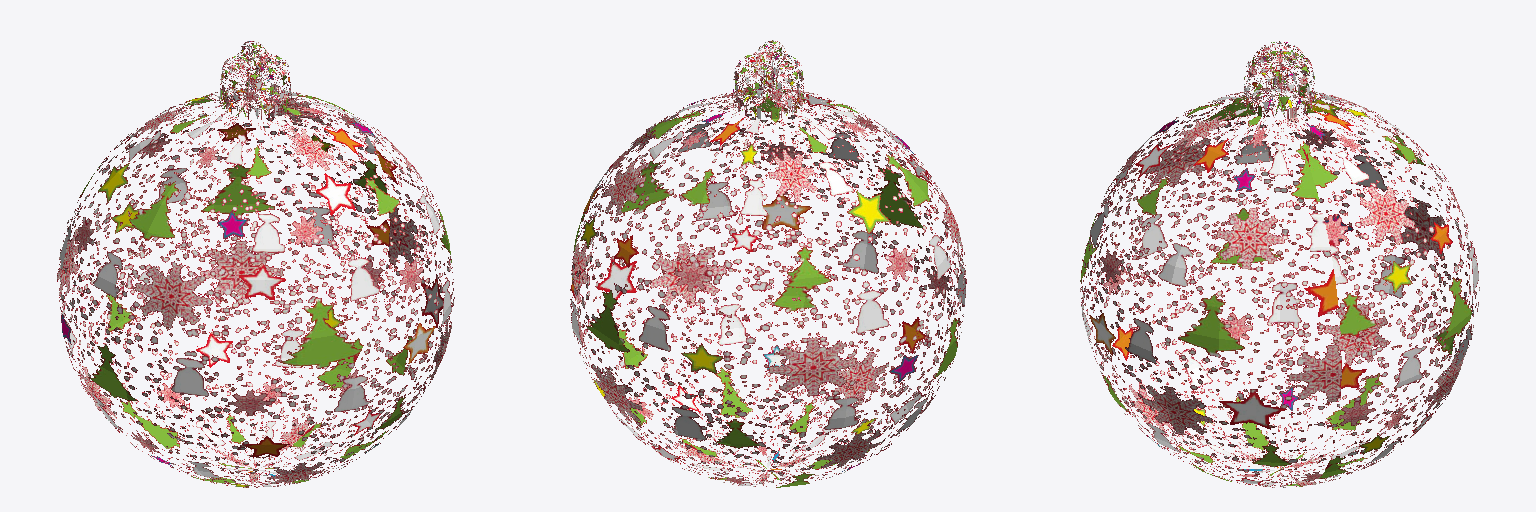
The picture shows the model from 3 angles: view 1: azimuth 30°, elevation 25°; view 2: azimuth 150°, elevation 25°; view 3: azimuth 270°, elevation 25°; orthographic projection.
Parts seen in each view (by area): view 1: Mesh; view 2: Mesh; view 3: Mesh.
Part boxes in pixels (x1,y1,x2,y2): Mesh: (57,41,454,487); Mesh: (570,40,966,487); Mesh: (1080,41,1479,487).
Size of the model in its own units: 13.51 by 15.9 by 13.51.
1 materials, 1 textured.